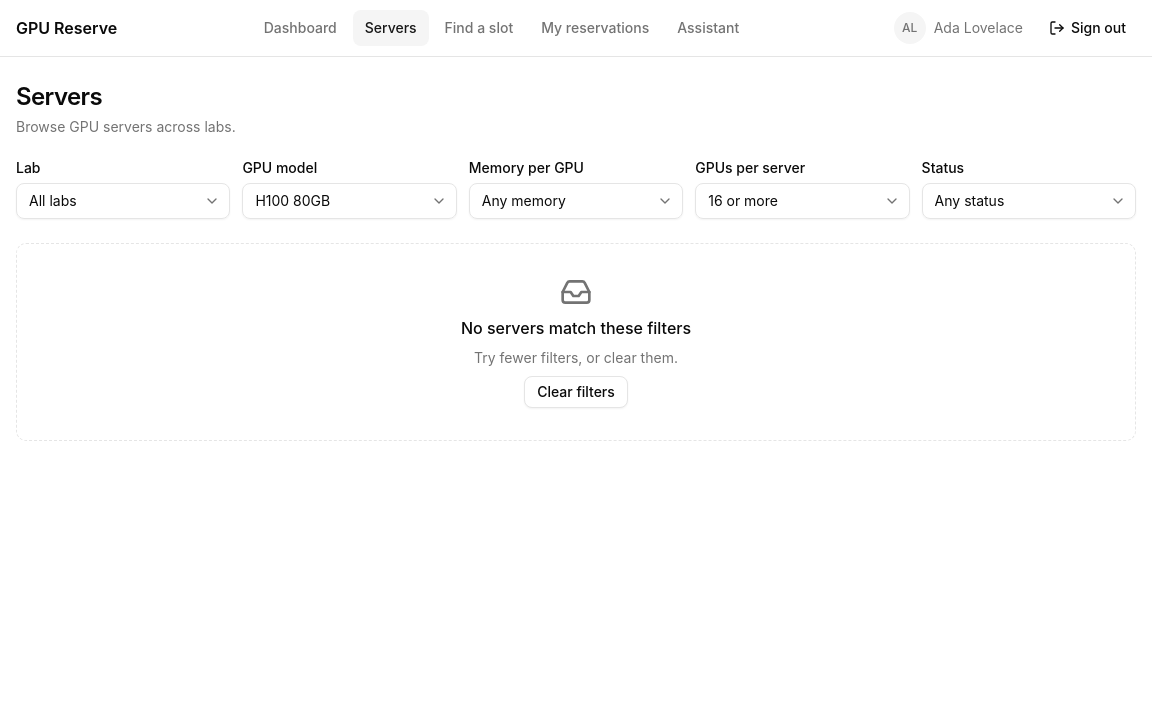
Scenario: servers page › explains when no server matches and clears the filters
This screenshot has width=1152, height=720.
expect the text "No servers match these filters" is shown: met, box [461,316,691,340]
Click the button "Clear filters" at (576, 392), box [524,376,628,408]
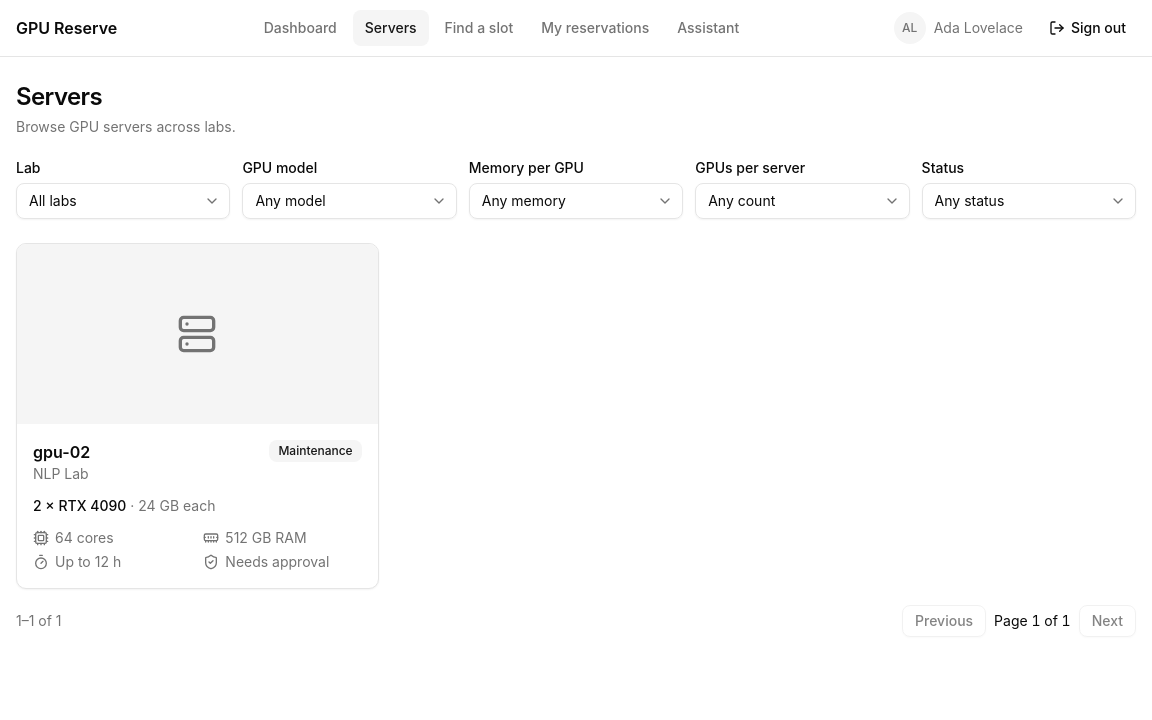
expect the heading "gpu-02" is shown: met, box [33,440,90,464]
